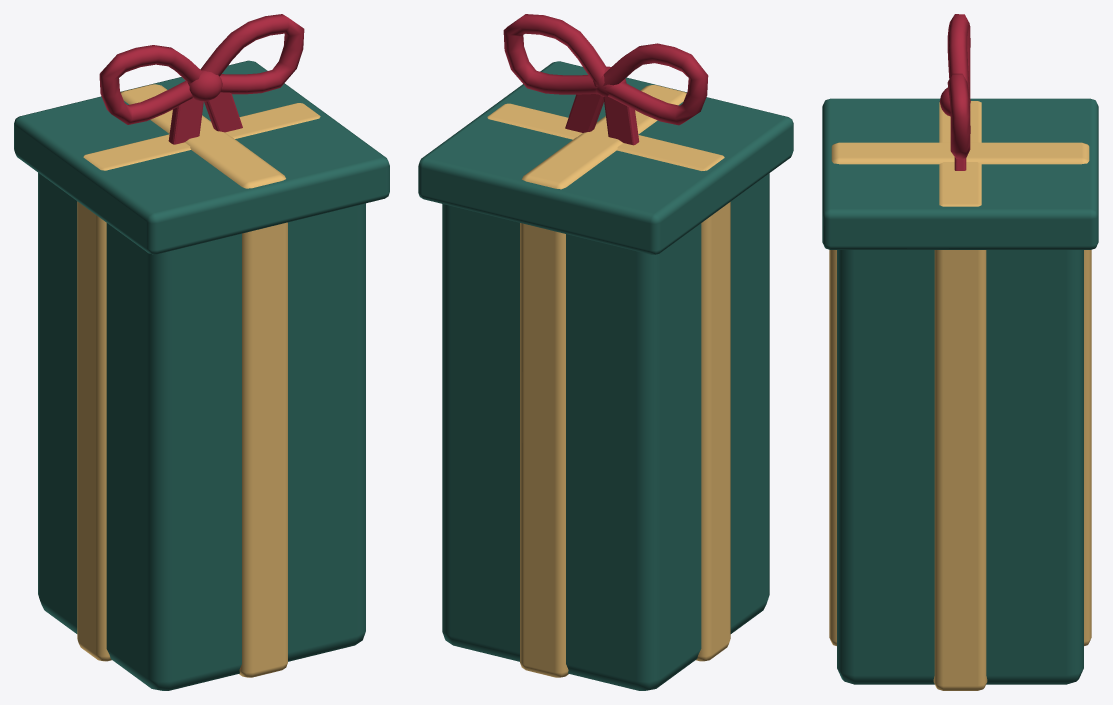
File: christmas-storybook-ribbon-tower-gift-dde57bea__18744.glb
3 renders of one model, left to right at view 1: azimuth 30°, elevation 25°; view 2: azimuth 150°, elevation 25°; view 3: azimuth 270°, elevation 25°, orthographic.
Parts seen in each view (by area): view 1: pine, brass, berry; view 2: pine, brass, berry; view 3: pine, brass, berry.
Part boxes in pixels (box(x1,y1,x2,y2)): pine: box(14, 60, 389, 690); brass: box(77, 84, 320, 677); berry: box(99, 14, 304, 144); pine: box(418, 61, 793, 690); brass: box(487, 85, 730, 677); berry: box(503, 14, 708, 145); pine: box(822, 98, 1098, 684); brass: box(829, 101, 1091, 690); berry: box(939, 14, 970, 170).
Size of the model in its own units: 0.335 by 0.7871 by 0.335.
